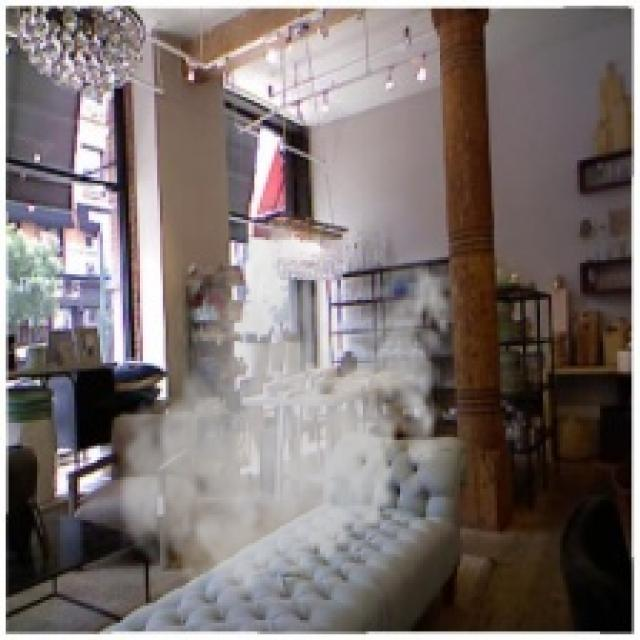smoke: (111, 220, 463, 614)
